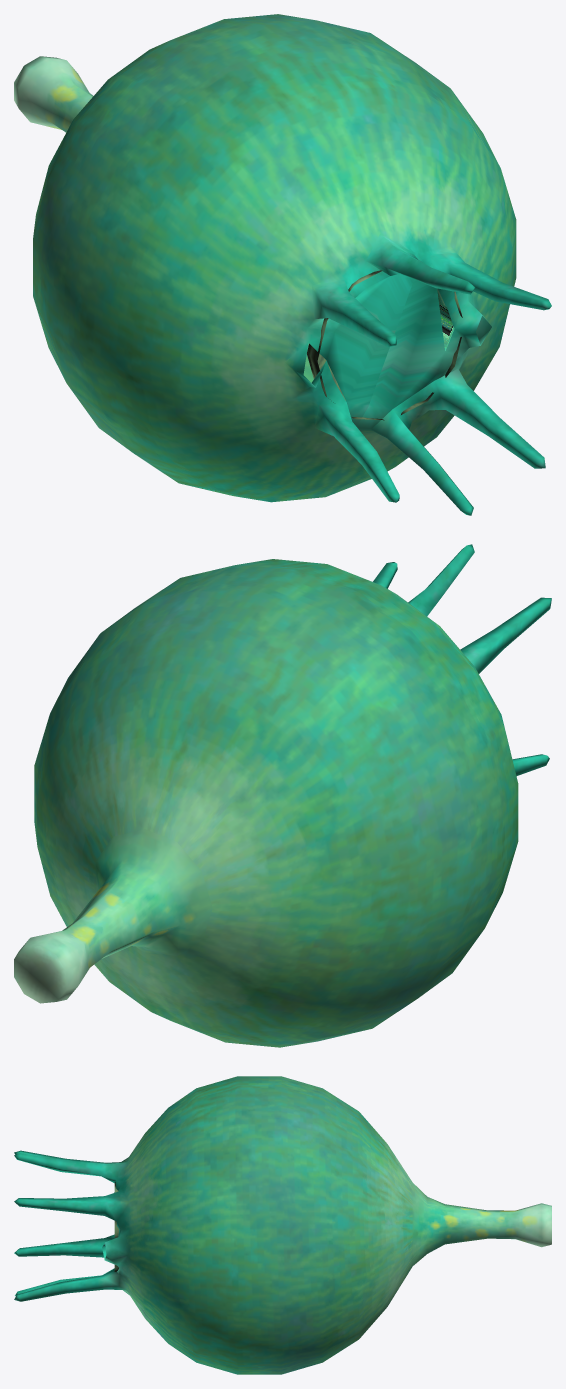
The model's file is Hill_lukovica.fbx.
3 renders of one model, top to bottom at view 1: azimuth 30°, elevation 25°; view 2: azimuth 150°, elevation 25°; view 3: azimuth 270°, elevation 25°, orthographic. The views are drawn at different scales.
Parts seen in each view (by area): view 1: Air_Plant_geo; view 2: Air_Plant_geo; view 3: Air_Plant_geo.
Boxes of the visible parts, x1,y1,x2,y2 form: Air_Plant_geo: (14, 14, 551, 515); Air_Plant_geo: (14, 544, 551, 1047); Air_Plant_geo: (14, 1076, 551, 1374).
Bounding box in the file's own units: 113 × 114 × 204.
